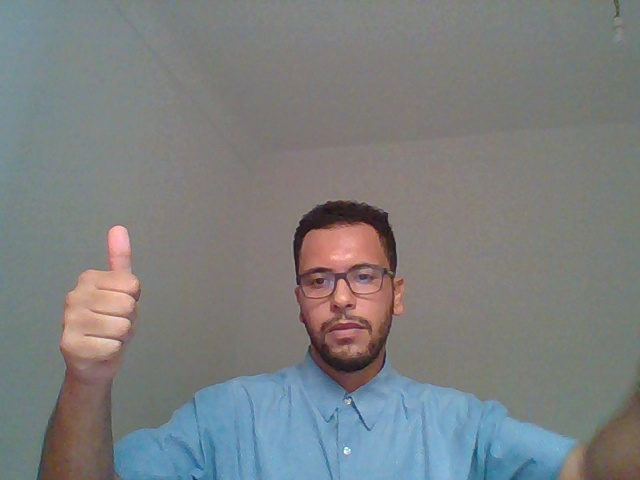ok: (36, 178, 164, 436)
